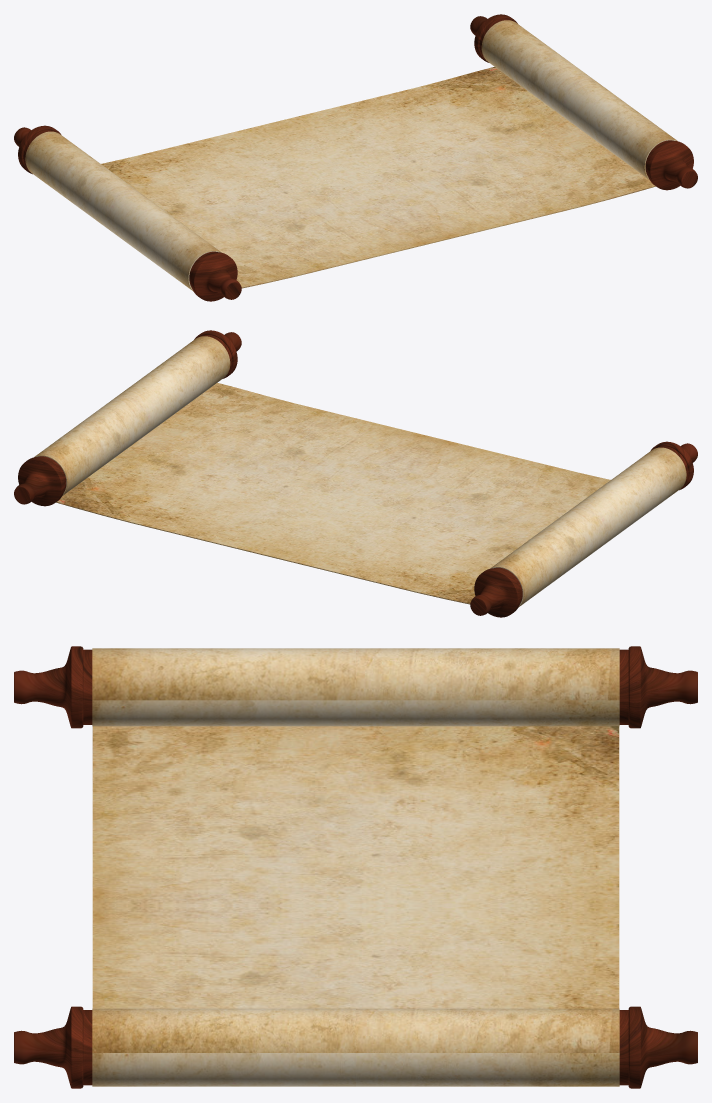
Rendered from Scroll Open.fbx.
The picture shows the model from 3 angles, top to bottom: view 1: azimuth 30°, elevation 25°; view 2: azimuth 150°, elevation 25°; view 3: azimuth 270°, elevation 25°; orthographic projection. The views are drawn at different scales.
Parts seen in each view (by area): view 1: Plane.004, ScrollRight, ScrollLeft; view 2: Plane.004, ScrollRight, ScrollLeft; view 3: Plane.004, ScrollRight, ScrollLeft.
Part boxes in pixels (box(x1,y1,x2,y2)): Plane.004: box(101, 67, 655, 288); ScrollRight: box(470, 14, 697, 190); ScrollLeft: box(14, 125, 241, 301); Plane.004: box(56, 383, 610, 604); ScrollRight: box(14, 330, 241, 506); ScrollLeft: box(470, 441, 697, 617); Plane.004: box(92, 726, 619, 1008); ScrollRight: box(14, 1006, 697, 1088); ScrollLeft: box(14, 646, 697, 728).
Size of the model in its own units: 49.57 by 4.51 by 36.28.
2 materials, 2 textured.
